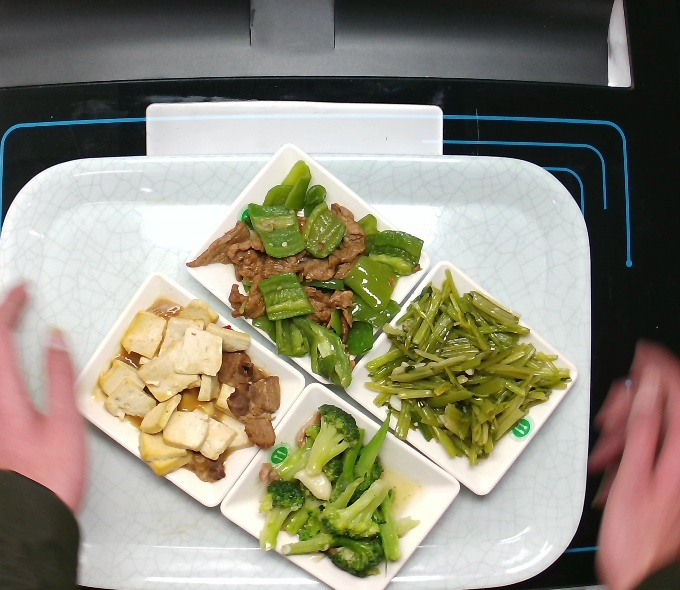wcq-DouFuRouPian: (100, 294, 289, 486)
wcq-QinCai: (367, 279, 562, 454)
wcq-QingJiaoChaoRou: (200, 159, 418, 387)
wcq-XiLanHua: (254, 403, 412, 579)
